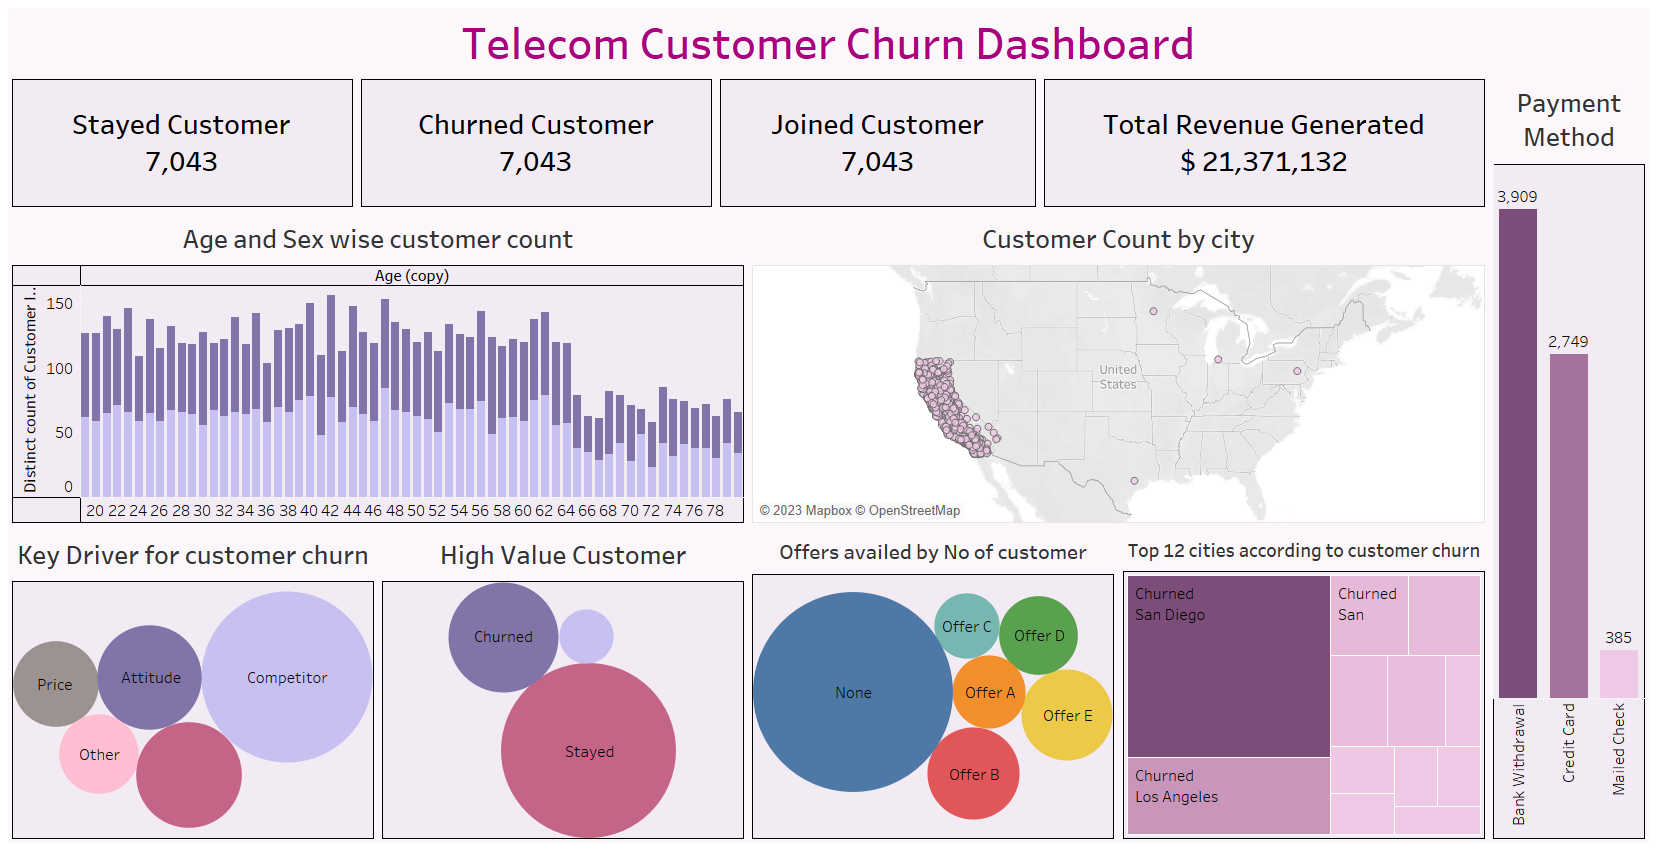

Layout of this report page (visuals, bound fields, positions):
{"tool":"tableau","page":{"name":"Dashboard 1","canvas":[1000,1000],"units":"permille","ordinal":0},"visuals":[{"type":"title","box":[4.8,9.4,990.3,78.7]},{"type":"worksheet","title":"Customer Stayed","mark":"Automatic","box":[4.8,88.1,210.6,159.9]},{"type":"worksheet","title":"Customer Churned","mark":"Automatic","box":[215.5,88.1,216.7,159.9]},{"type":"worksheet","title":"Customer Joined","mark":"Automatic","box":[432.1,88.1,195.5,159.9]},{"type":"worksheet","title":"Total Revenue Generated","mark":"Automatic","box":[627.6,88.1,271,159.9]},{"type":"worksheet","title":"Payment Method","mark":"Automatic","rows":["Customer ID (copy)_331859032730947584"],"cols":["Payment Method"],"box":[898.6,88.1,96.6,902.5]},{"type":"worksheet","title":"Age and Sex wise customer count","mark":"Automatic","rows":["Customer ID (copy)_331859032730947584"],"cols":["Age (copy)_331859032732200961"],"box":[4.8,248,446.9,371.3]},{"type":"worksheet","title":"Customer Count by city","mark":"Multipolygon","box":[451.7,248,446.9,371.3]},{"type":"worksheet","title":"Key Driver for customer churn","mark":"Circle","box":[4.8,619.3,223.4,371.3]},{"type":"worksheet","title":"High Value Customer","mark":"Circle","box":[228.2,619.3,223.5,371.3]},{"type":"worksheet","title":"Offers availed by No of customer","mark":"Circle","box":[451.7,619.3,223.4,371.3]},{"type":"worksheet","title":"Top 12 cities according to customer churn","mark":"Automatic","box":[675.1,619.3,223.5,371.3]}]}

Visuals, with their boxes on the dashboard's canvas, which has no fixed pixel size, in thousandths of its width and height (x1, y1, x2, y2). These are canvas units, not pixel positions in the 1657x851 screenshot, which may show the page scaled, cropped or inside an application window:
title: BBox(5, 9, 995, 88)
"Customer Stayed" worksheet: BBox(5, 88, 215, 248)
"Customer Churned" worksheet: BBox(216, 88, 432, 248)
"Customer Joined" worksheet: BBox(432, 88, 628, 248)
"Total Revenue Generated" worksheet: BBox(628, 88, 899, 248)
"Payment Method" worksheet: BBox(899, 88, 995, 991)
"Age and Sex wise customer count" worksheet: BBox(5, 248, 452, 619)
"Customer Count by city" worksheet (Multipolygon marks): BBox(452, 248, 899, 619)
"Key Driver for customer churn" worksheet (Circle marks): BBox(5, 619, 228, 991)
"High Value Customer" worksheet (Circle marks): BBox(228, 619, 452, 991)
"Offers availed by No of customer" worksheet (Circle marks): BBox(452, 619, 675, 991)
"Top 12 cities according to customer churn" worksheet: BBox(675, 619, 899, 991)
